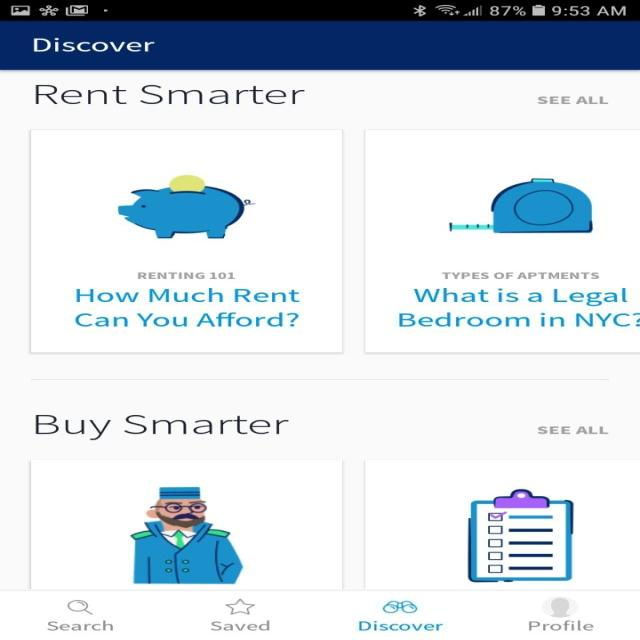Icon: (540, 596, 578, 618), (224, 598, 255, 615), (66, 599, 94, 615)
Image: (130, 486, 242, 584), (466, 488, 574, 582), (118, 174, 255, 238), (448, 178, 593, 233), (381, 600, 417, 613)
Text: (398, 288, 639, 327), (74, 287, 300, 327), (35, 414, 289, 440), (35, 84, 305, 104), (34, 37, 156, 52), (441, 272, 599, 280), (358, 620, 443, 630), (137, 272, 235, 280), (527, 620, 594, 631), (47, 620, 114, 631), (536, 96, 608, 105), (210, 620, 270, 630), (537, 426, 607, 434)
